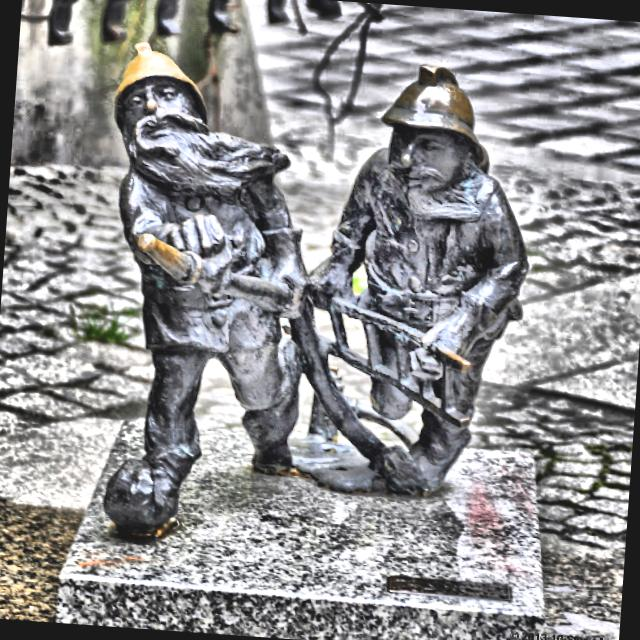Pozarki: (102, 41, 529, 542)
